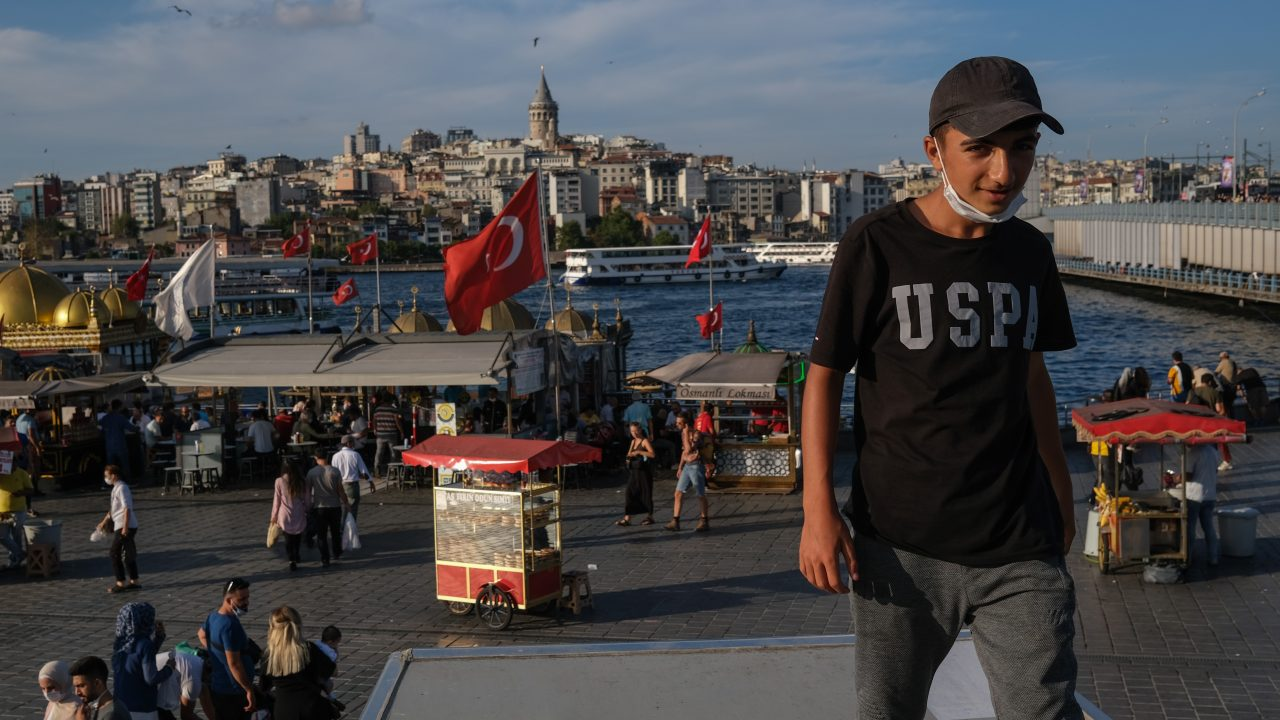with_incorrect_mask: (944, 132, 1026, 228)
